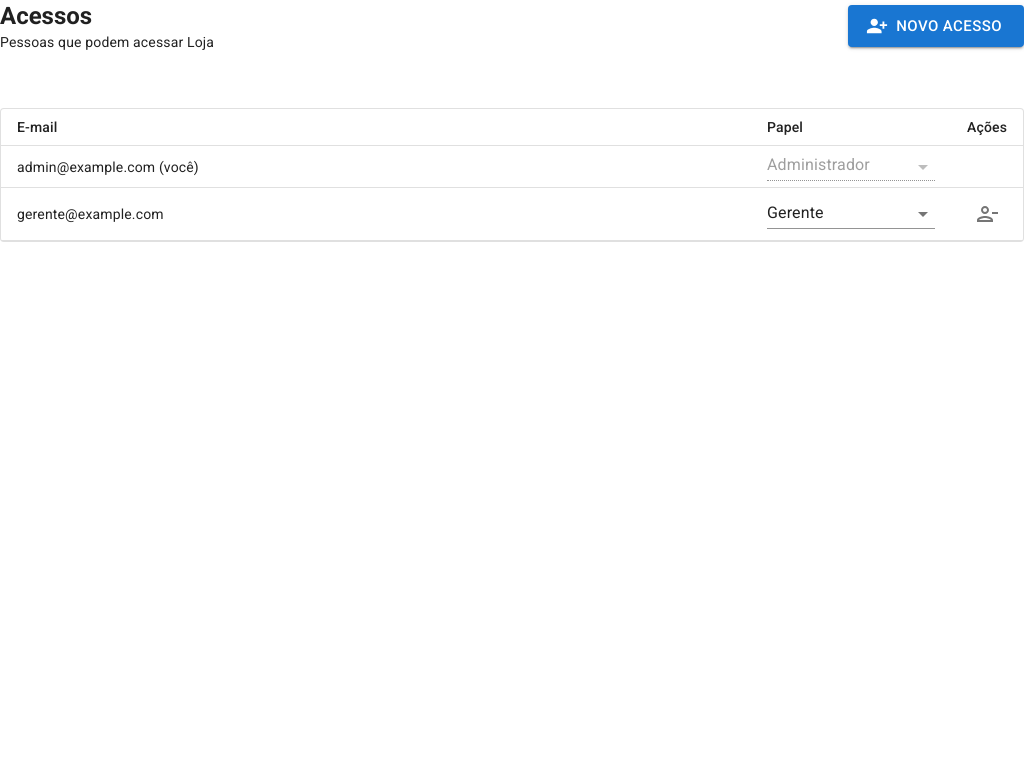
Test: AccessPage › grants access and confirms it
Click the button "Novo acesso". click: [936, 26]
box: [848,5,1023,47]
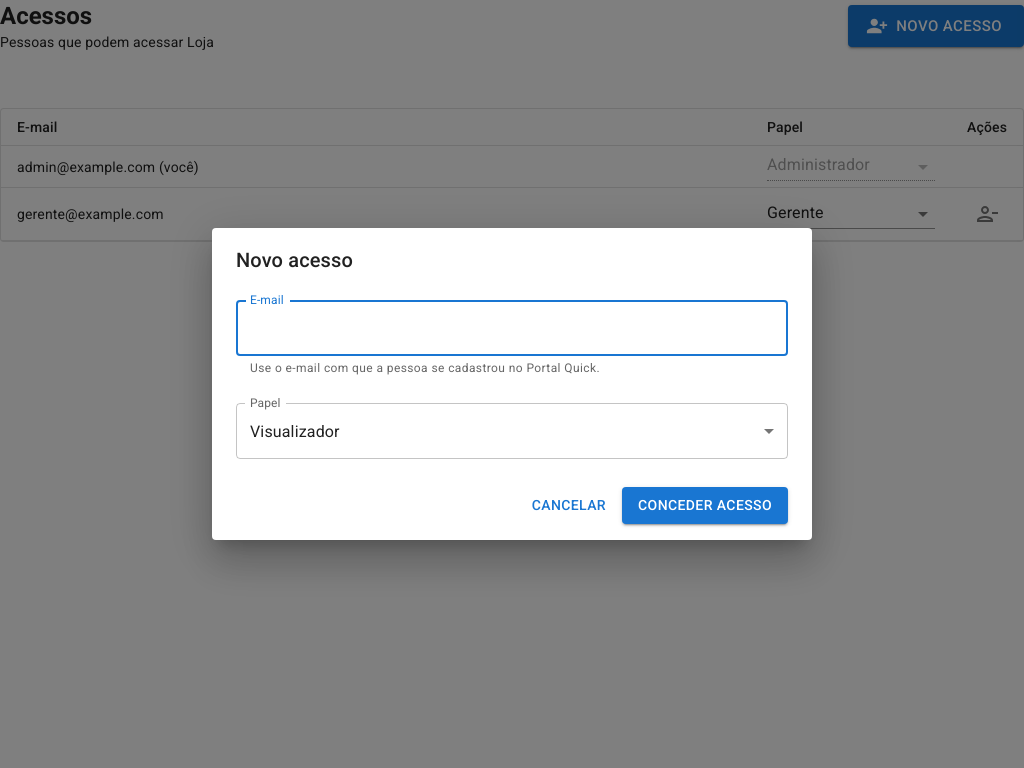
Type "Colega@Example.com" into the field labelled "E-mail". click: [512, 328]
box: [236,300,788,356]
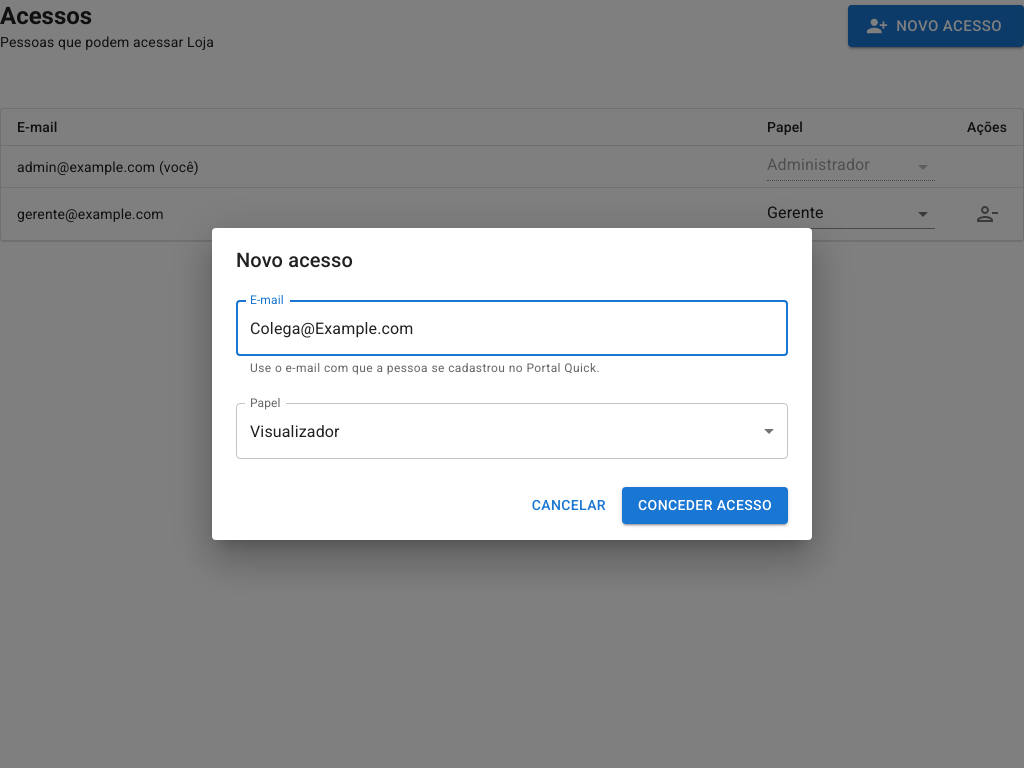
Click the button "Conceder acesso". click: [705, 505]
box: [622,487,788,524]
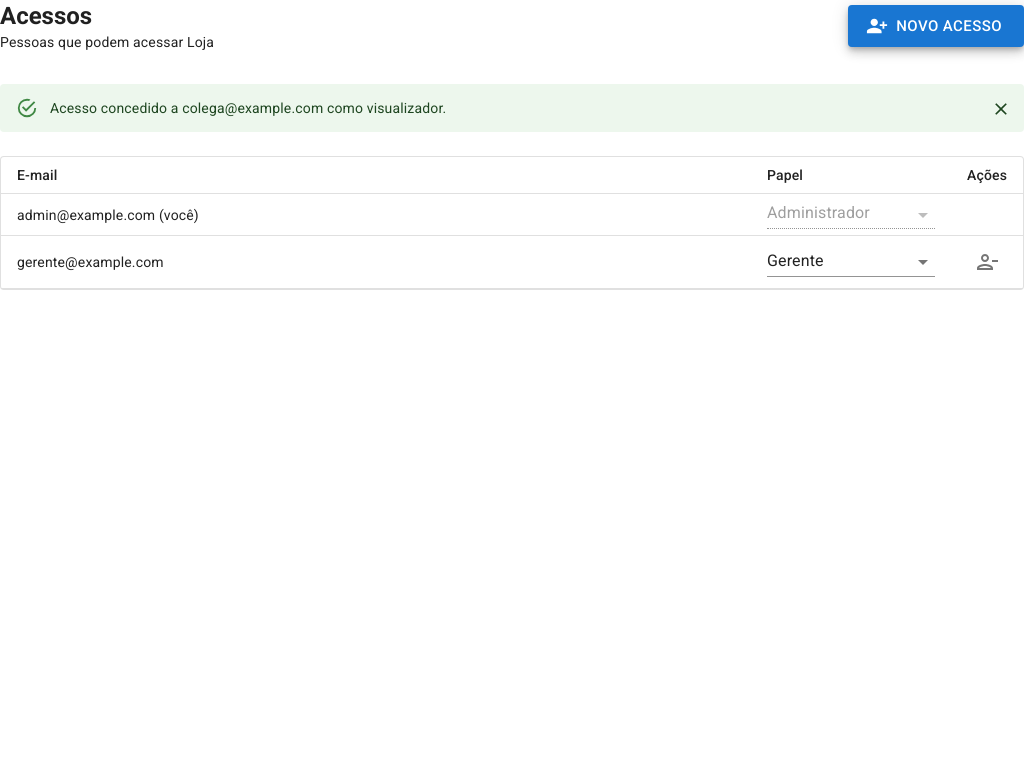
Now the text "Acesso concedido a colega@example.com como visualizador." is shown, box [50,100,446,116]
